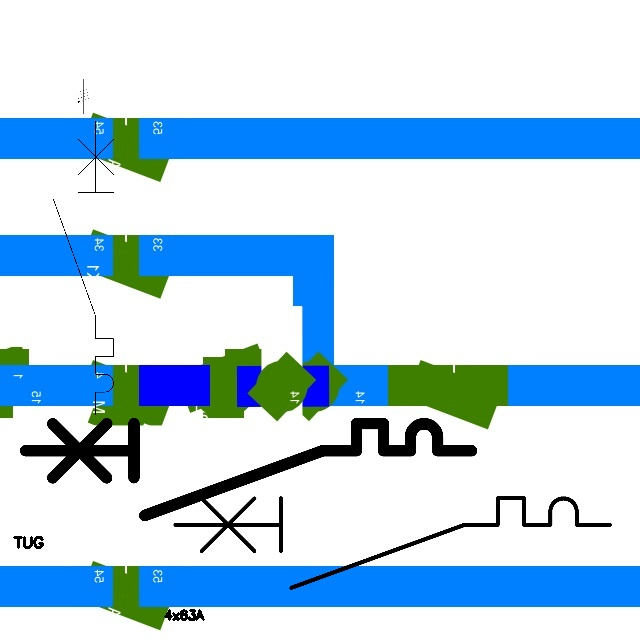interruptor_termomagnetico: (14, 412, 483, 527), (164, 487, 621, 599), (46, 113, 121, 421)
